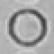no answer: (2, 6, 51, 49)
